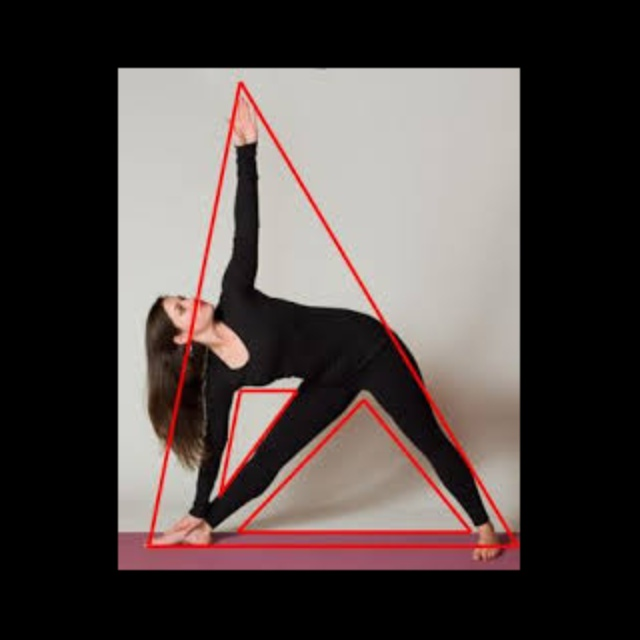Triangle_Pose: (134, 91, 510, 562)
